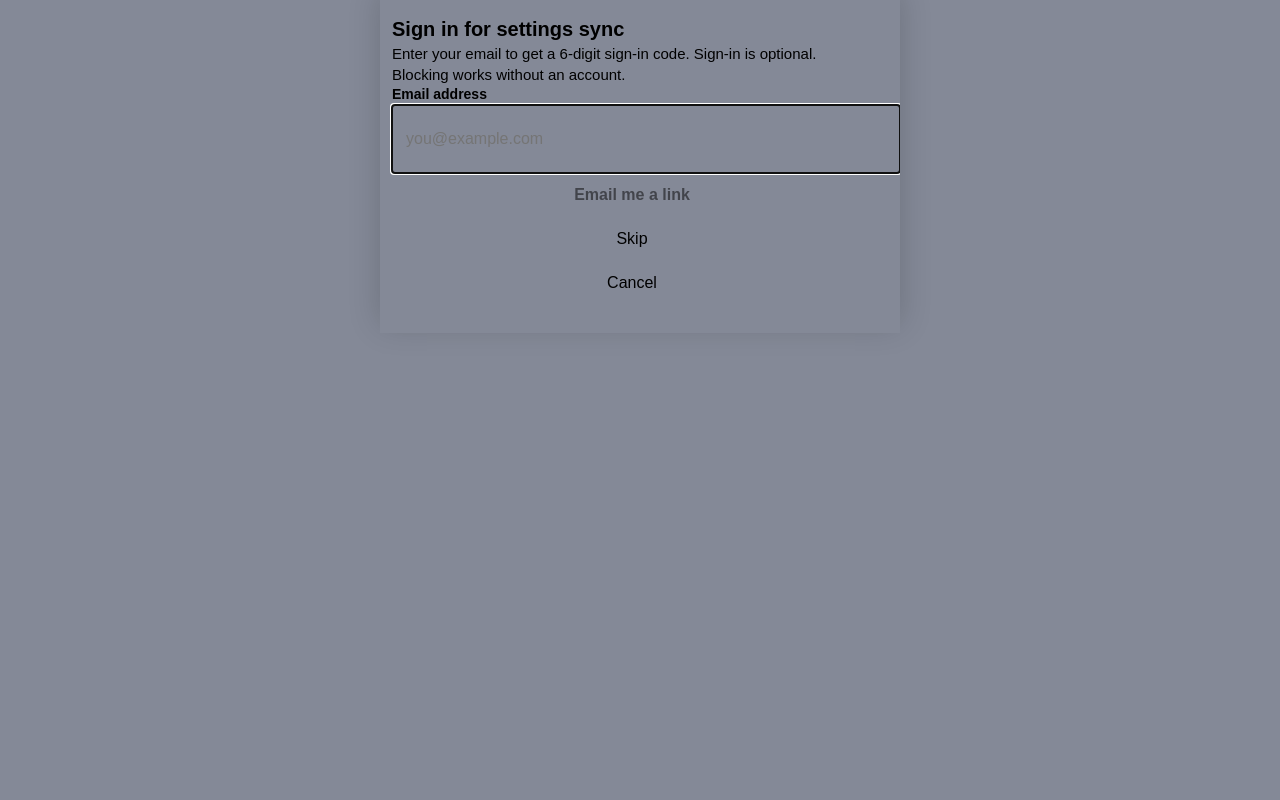
Test case: sign-in form submission › preserves magic-link submission for hosts without code capability
The width and height of the screenshot is (1280, 800).
Step 1. Type "reader@example.test" into the field labelled "Email address" → {"x": 646, "y": 139}, box 392,105 -> 900,173
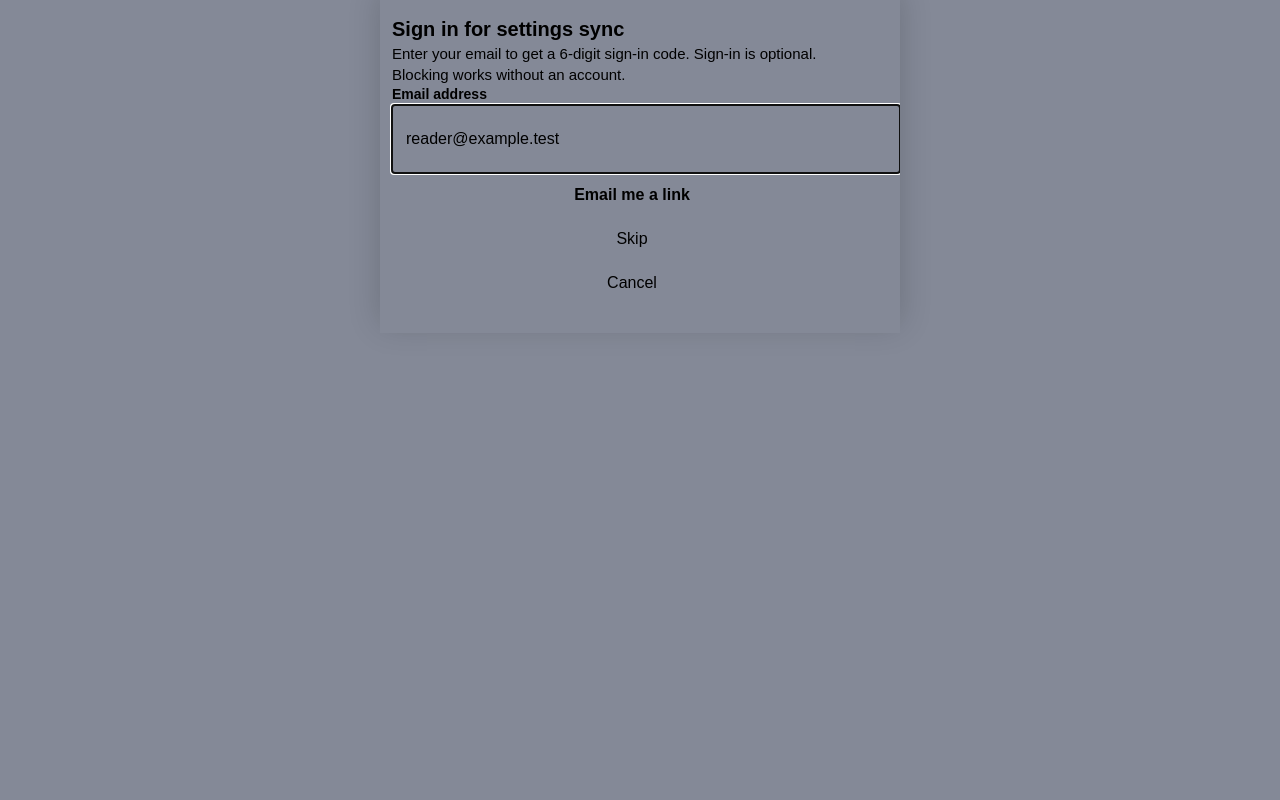
Step 2. Submit the form labelled "Email address", box 392,85 -> 872,217
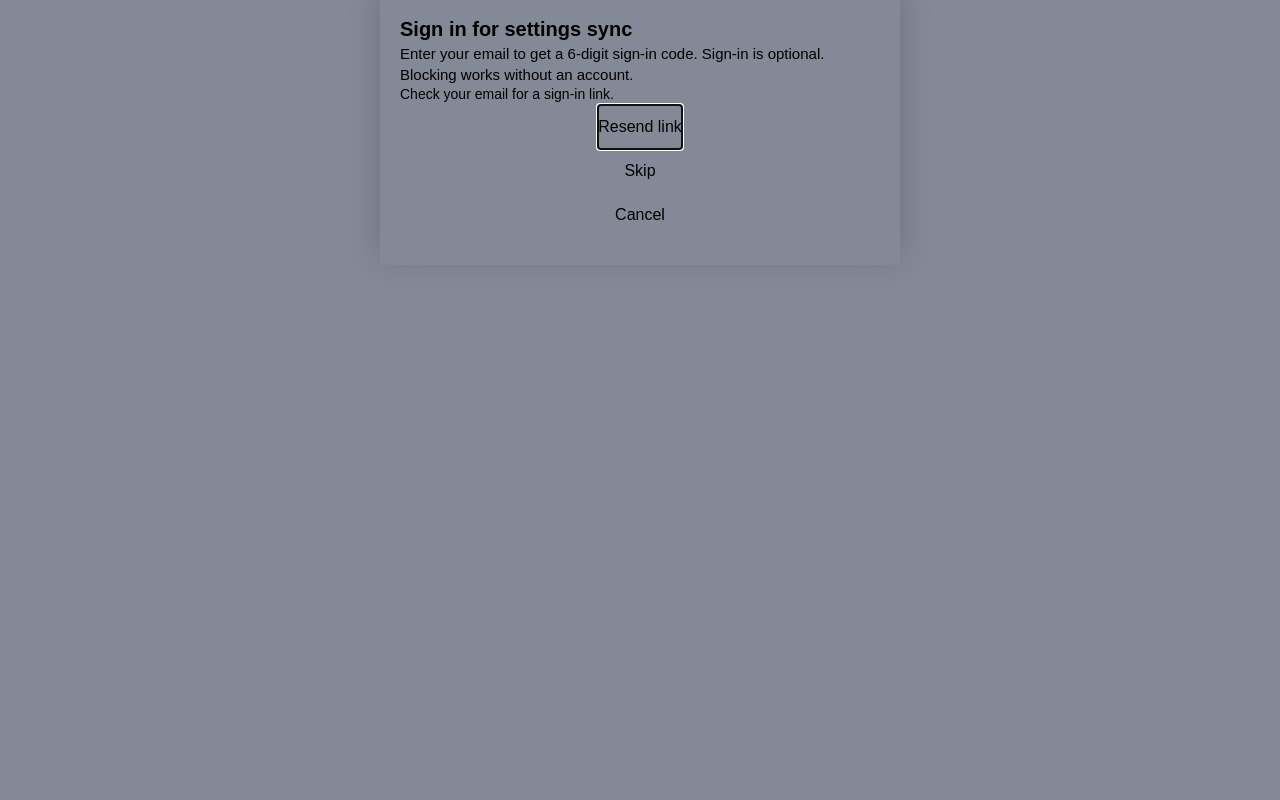
Expected: the text "Check your email for a sign-in link." is shown, 400,86 -> 614,102
